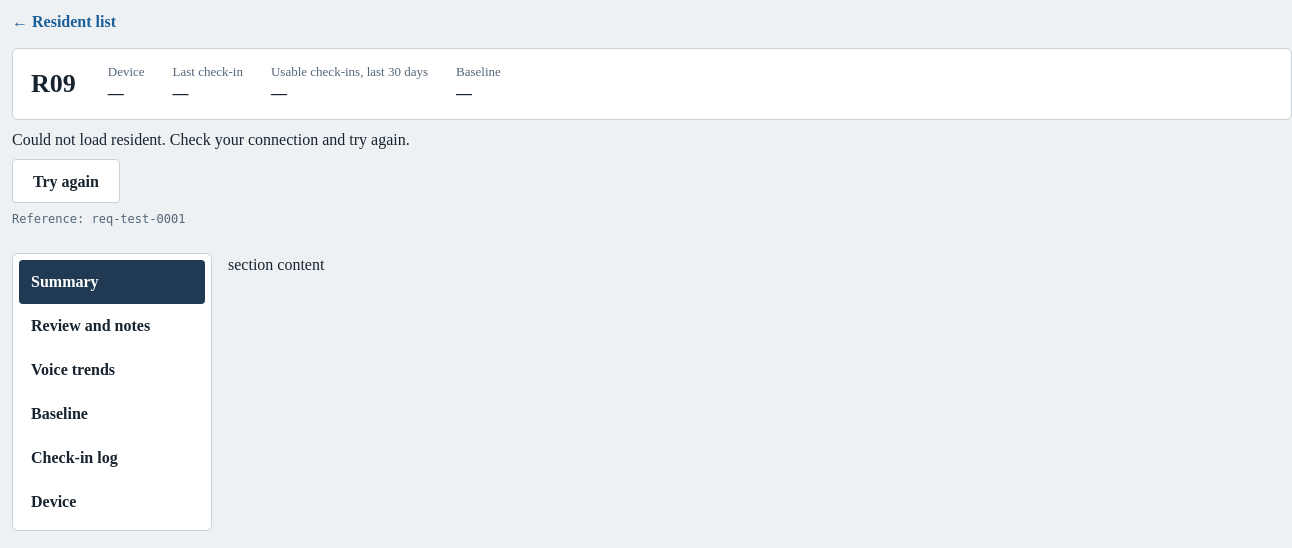
Test: resident chart layout › shows an error in the banner only and keeps the sections (UX-202, UX-203)
This screenshot has width=1292, height=548.
Expected: the text "Could not load resident. Check your connection and try again." is shown, [12,128,410,151]
Expected: the text "Reference: req-test-0001" is shown, [12,211,185,229]
Click the button "Try again" at (66, 181), box [12,159,120,203]
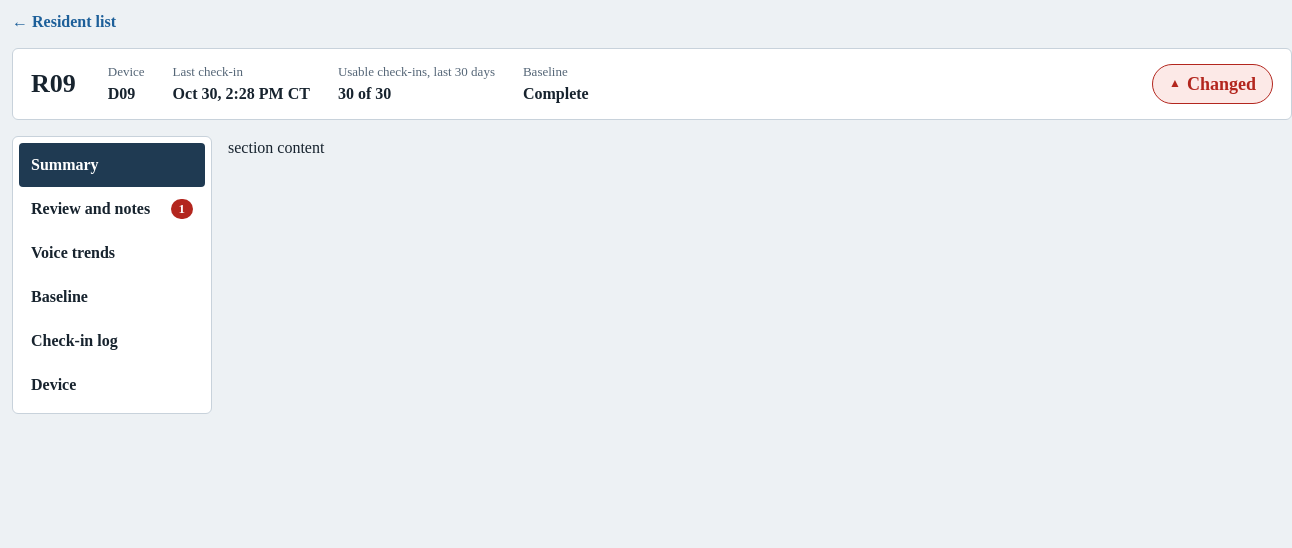
Expected: the text "Oct 30, 2:28 PM CT" is shown, [173,82,310,105]
